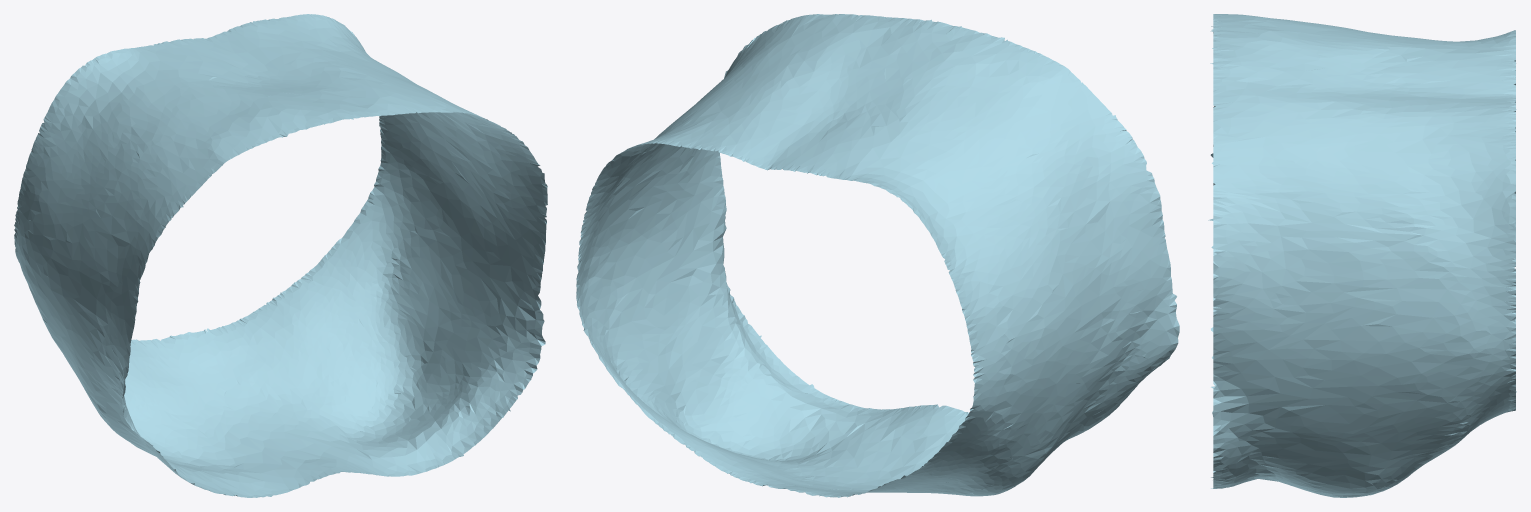
Rendered from skin.obj.
3 views of the same model, side by side, from view 1: azimuth 30°, elevation 25°; view 2: azimuth 150°, elevation 25°; view 3: azimuth 270°, elevation 25° (orthographic). The views are drawn at different scales.
Parts seen in each view (by area): view 1: grp1; view 2: grp1; view 3: grp1.
Part boxes in pixels (<box>): grp1: <box>14,14,547,497</box>; grp1: <box>576,14,1179,497</box>; grp1: <box>1208,14,1516,497</box>.
Bounding box in the file's own units: 298 × 253 × 184.
